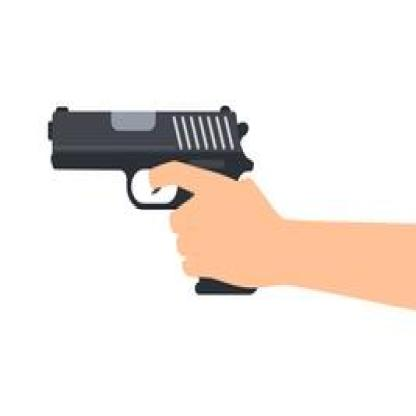handgun: (48, 102, 257, 295)
